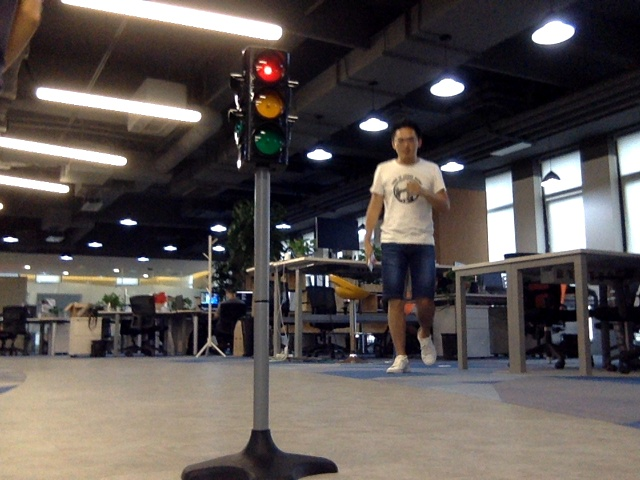red: (245, 50, 288, 156)
